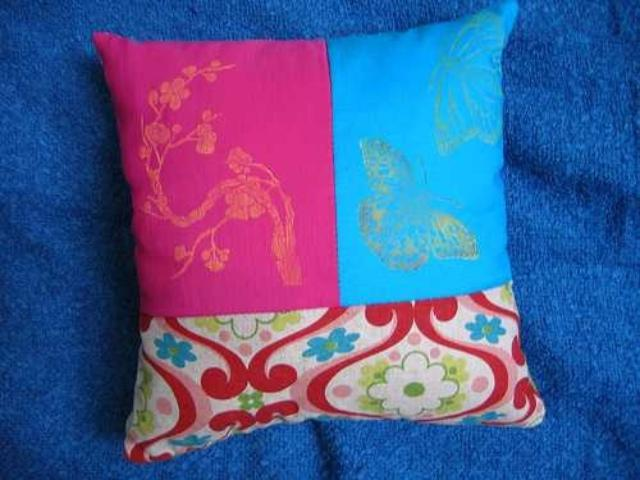pillow: (90, 0, 546, 464)
